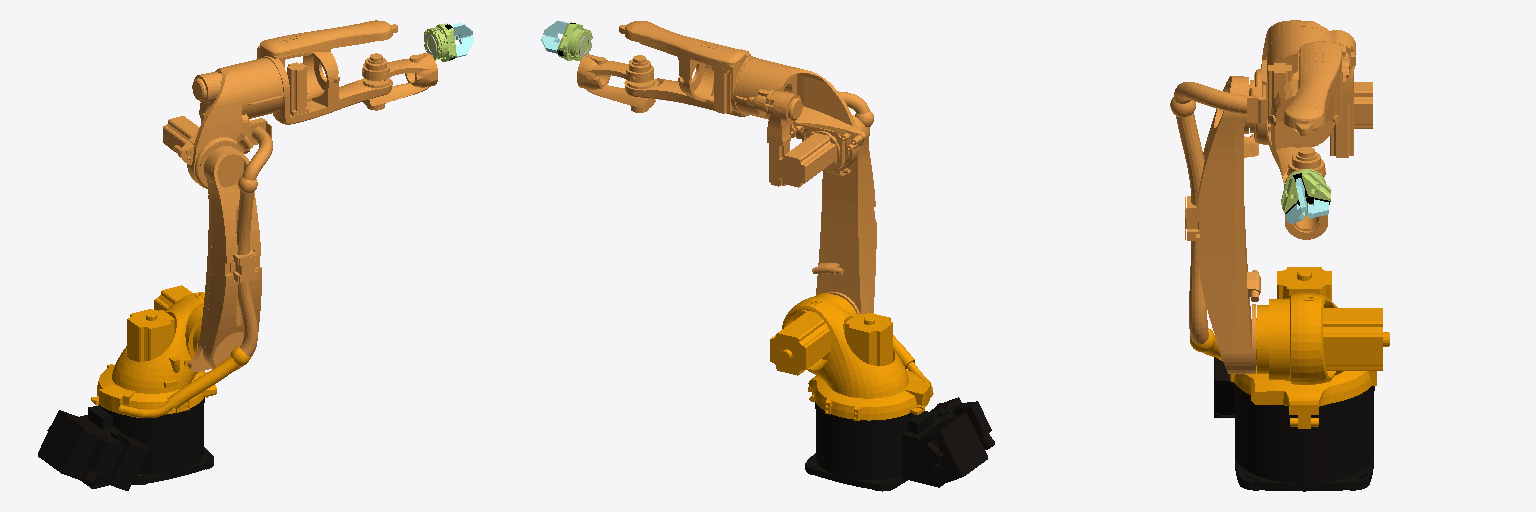
robot.urdf — assembly_kuka_simp:
<?xml version="1.0" encoding="utf-8" ?>
<robot name="assembly_kuka_simp">
    <material name="orange">
        <color rgba="0.933 0.635 0.309 1" />
    </material>
    <material name="black">
        <color rgba="0.121 0.109 0.098 1" />
    </material>
    <material name="platinum">
        <color rgba="0.835 0.815 0.803 1" />
    </material>

    <link name="world" />

    <link name="base_link">        
		<inertial>
            <origin xyz="-0.001558 0.0 0.1124" rpy="0 0 0" />
            <mass value="48.9475" />
            <inertia ixx="0.53585" ixy="0.0" ixz="-0.00395" iyy="0.54899" iyz="-0.00001" izz="0.66970" />
        </inertial>

        <visual>
            <origin xyz="0 0 0" rpy="0 0 0" />
            <geometry>
                <mesh filename="package://kr52_description/meshes/base_link.dae" />
            </geometry>
            <material name="black" />
        </visual>
        <collision>
            <origin xyz="0 0 0" rpy="0 0 0" />
            <geometry>
                <mesh filename="package://assembly_kuka_simp/meshes/base_link.dae" />
            </geometry>
        </collision>
    </link>

    <joint name="world_base" type="fixed">
        <parent link="world" />
        <child link="base_link" />
        <origin rpy="0 0 0" xyz="0 0 0" />
    </joint>

    <link name="link_1">
		<inertial>
            <origin xyz="0.067038 -0.01448 0.09133" rpy="0 0 0" />
            <mass value="28.2722" />
            <inertia ixx="0.2912" ixy="-0.04226" ixz="0.1367" iyy="0.4828" iyz="-0.03051" izz="0.4624" />
        </inertial>

        <visual>
            <origin xyz="0 0 0" rpy="0 0 0" />
            <geometry>
                <mesh filename="package://kr52_description/meshes/link_1.dae" />
            </geometry>
            <material name="">
                <color rgba="0.97 0.64 0.04 1" />
            </material>
        </visual>
        <collision>
            <origin xyz="0 0 0" rpy="0 0 0" />
            <geometry>
                <mesh filename="package://assembly_kuka_simp/meshes/link_1.dae" />
            </geometry>
        </collision>
    </link>

    <joint name="base_to_link1" type="continuous">
        <origin xyz="0 0 0.2255" rpy="0 0 0" />
        <parent link="base_link" />
        <child link="link_1" />
        <axis xyz="0 0 1" />
		<dynamics damping="0.7"/>
        <limit lower="-2.7053" upper="2.7053" effort="10.0" velocity="2.6878" />
    </joint>


    <link name="link_2">        
		<inertial>
            <origin xyz="0.001942 -0.1737 0.26701" rpy="0 0 0" />
            <mass value="20.7503" />
            <inertia ixx="0.70458" ixy="-0.00057" ixz="0.00592" iyy="0.71816" iyz="-0.02276" izz="0.05679" />
        </inertial>

        <visual>
            <origin xyz="0 -0.27055 0" rpy="0 0 0" />
            <geometry>
                <mesh filename="package://assembly_kuka_simp/meshes/link_2_1.dae" />
            </geometry>
            <material name="">
                <color rgba="0.933 0.635 0.309 1" />
            </material>
        </visual>
        <collision>
            <origin xyz="0 -0.27055 0" rpy="0 0 0" />
            <geometry>
                <mesh filename="package://assembly_kuka_simp/meshes/link_2.dae" />
            </geometry>
        </collision>
    </link>

    <joint name="link1_to_link2" type="continuous">
        <origin xyz="0.18106 -0.002 0.178" rpy="0 0 0" />
        <parent link="link_1" />
        <child link="link_2" />
        <axis xyz="0 1 0" />
		<dynamics damping="0.7"/>
        <limit lower="-3.1416" upper="1.1345" effort="10.0" velocity="2.6878" />
    </joint>

    <link name="link_3">        
		<inertial>
            <origin xyz="0.086086 -0.024557 0.10627" rpy="0 0 0" />
            <mass value="16.6002" />
            <inertia ixx="0.18666" ixy="0.04216" ixz="0.08152" iyy="0.23653" iyz="0.04962" izz="0.18575" />
        </inertial>

        <visual>
            <origin xyz="0 -0.13635 0" rpy="0 0 0" />
            <geometry>
                <mesh filename="package://kr52_description/meshes/link_3.dae" />
            </geometry>
            <material name="">
                <color rgba="0.933 0.635 0.309 1" />
            </material>
        </visual>
        <collision>
            <origin xyz="0 -0.13635 0" rpy="0 0 0" />
            <geometry>
                <mesh filename="package://assembly_kuka_simp/meshes/link_3.dae" />
            </geometry>
        </collision>
    </link>

    <joint name="link2_to_link3" type="continuous">
        <origin xyz="0.0011745 0.002 0.59705" rpy="0 0 0" />
        <parent link="link_2" />
        <child link="link_3" />
        <axis xyz="0 1 0" />
		<dynamics damping="0.7"/>
        <limit lower="-0.2618" upper="2.7576" effort="10.0" velocity="3.9794" />
    </joint>

    <link name="link_4">
        <inertial>
            <origin xyz="0.19879 -0.00067831 0.0004912" rpy="0 0 0" />
            <mass value="8.6632" />
            <inertia ixx="0.08299" ixy="-0.00040" ixz="-0.00075" iyy="0.13232" iyz="-0.01710" izz="0.18882" />
        </inertial>

        <visual>
            <origin xyz="0 0 0" rpy="0 0 0" />
            <geometry>
                <mesh filename="package://assembly_kuka_simp/meshes/link_4_1.dae" />
            </geometry>
            <material name="">
                <color rgba="0.933 0.635 0.309 1" />
            </material>
        </visual>
        <collision>
            <origin xyz="0 0 0" rpy="0 0 0" />
            <geometry>
                <mesh filename="package://assembly_kuka_simp/meshes/link_4.dae" />
            </geometry>
        </collision>
    </link>

    <joint name="link3_to_link4" type="continuous">
        <origin xyz="0.237 0 0.17" rpy="0 0 0" />
        <parent link="link_3" />
        <child link="link_4" />
        <axis xyz="1 0 0" />
		<dynamics damping="0.7"/>
        <limit lower="-6.1087" upper="-6.1087" effort="10.0" velocity="5.969" />
    </joint>

    <link name="link_5">
        <inertial>
            <origin xyz="0.075375 -0.0070921 0" rpy="0 0 0" />
            <mass value="2.7234" />
            <inertia ixx="0.00698" ixy="-0.00082" ixz="0.0" iyy="0.01633" iyz="0.0" izz="0.02073" />
        </inertial>

        <visual>
            <origin xyz="0 0 -0.082318" rpy="1.5708 0 0" />
            <geometry>
                <mesh filename="package://assembly_kuka_simp/meshes/link_5.dae" />
            </geometry>
            <material name="">
                <color rgba="0.933 0.635 0.309 1" />
            </material>
        </visual>

        <collision>
            <origin xyz="0 0 -0.082318" rpy="1.5708 0 0" />
            <geometry>
                <mesh filename="package://assembly_kuka_simp/meshes/link_5.dae" />
            </geometry>
        </collision>
    </link>

    <joint name="link4_to_link5" type="continuous">
        <origin xyz="0.383 0.005 0" rpy="0 0 0" />
        <parent link="link_4" />
        <child link="link_5" />
        <axis xyz="0 0 1" />
		<dynamics damping="0.7"/>
        <limit lower="-2.2689" upper="2.2689" effort="10.0" velocity="6.7021" />
    </joint>

    <link name="link_6">
        <inertial>
            <origin xyz="0 0 0" rpy="0 0 0" />
            <mass value="0.05109" />
            <inertia ixx="0.0000431" ixy="0.0" ixz="0.0" iyy="0.0000224" iyz="0.0" izz="0.0000227" />
        </inertial>

        <visual>
            <origin xyz="0 0 0" rpy="0 0 0" />
            <geometry>
                <mesh filename="package://assembly_kuka_simp/meshes/link_6.dae" />
            </geometry>
            <material name="platinum" />
        </visual>
        <collision>
            <origin xyz="0 0 0" rpy="0 0 0" />
            <geometry>
                <mesh filename="package://assembly_kuka_simp/meshes/link_6.dae" />
            </geometry>
        </collision>
    </link>

    <joint name="link5_to_link6" type="continuous">
        <origin xyz="0.193 -0.003 0" rpy="1.3396 0 0" />
        <parent link="link_5" />
        <child link="link_6" />
        <axis xyz="1 0 0" />
		<dynamics damping="0.7"/>
        <limit lower="-6.1087" upper="6.1087" effort="10.0" velocity="12.584" />
    </joint>


    <!-- ******************** GRIPPER *********************-->
    <link name="base_link_grp">
        <inertial>
            <origin xyz="-0.12444 0.015119 0.11802" rpy="0 0 0" />
            <mass value="0.13435" />
            <inertia ixx="0.0000834" ixy="0.0" ixz="0.0" iyy="0.0001620" iyz="0.0" izz="0.0000794" />
        </inertial>

        <visual>
            <origin xyz="0 0 0" rpy="0 0 0" />
            <geometry>
                <mesh filename="package://gripper_schunk_kuka/meshes/base_link_grp.STL" />
            </geometry>
            <material name="">
                <color rgba="0.79 0.9 0.48 1" />
            </material>
        </visual>
        <collision>
            <origin xyz="0 0 0" rpy="0 0 0" />
            <geometry>
                <mesh filename="package://gripper_schunk_kuka/meshes/base_link_grp.STL" />
            </geometry>
        </collision>
    </link>

    <joint name="link6_to_bgrp" type="fixed">
        <origin xyz="0.005 0 0" rpy="0 0 0" />
        <parent link="link_6" />
        <child link="base_link_grp" />
        <axis xyz="1 0 0" />
	<dynamics damping="0.7"/>
        <limit lower="-6.1087" upper="6.1087" effort="0" velocity="12.584" />
    </joint>

    <link name="structure_grp">
        <inertial>
            <origin xyz="-0.00021291 0.023532 3.5559E-05" rpy="0 0 0" />
            <mass value="1.0789" />
            <inertia ixx="0.0009873" ixy="-0.0" ixz="0.0" iyy="0.0015558" iyz="0.0" izz="0.0009789" />
        </inertial>
        <visual>
            <origin xyz="0 0 0" rpy="0 0 0" />
            <geometry>
                <mesh filename="package://gripper_schunk_kuka/meshes/structure_grp.STL" />
            </geometry>
            <material name="">
                <color rgba="0.79 0.9 0.48 1" />
            </material>
        </visual>
        <collision>
            <origin xyz="0 0 0" rpy="0 0 0" />
            <geometry>
                <mesh filename="package://gripper_schunk_kuka/meshes/structure_grp.STL" />
            </geometry>
        </collision>
    </link>

    <joint name="base_to_str_grp" type="fixed">
        <origin xyz="0.0063 0 0" rpy="0 0 0" />
        <parent link="base_link_grp" />
        <child link="structure_grp" />
        <axis xyz="1 0 0" />
		<dynamics damping="0.7"/>
    </joint>

    <link name="guide_1_grp">
        <inertial>
            <origin xyz="0 0.009 0.027502" rpy="0 0 0" />
            <mass value="0.06552" />
            <inertia ixx="0.0000180" ixy="0.0" ixz="0.0" iyy="0.0000185" iyz="0.0" izz="0.0000046" />
        </inertial>

        <visual>
            <origin xyz="0 0 0" rpy="0 0 0" />
            <geometry>
                <mesh filename="package://gripper_schunk_kuka/meshes/guide_1_grp.STL" />
            </geometry>
            <material name="">
                <color rgba="0 0 0 1" />
            </material>
        </visual>
        <collision>
            <origin xyz="0 0 0" rpy="0 0 0" />
            <geometry>
                <mesh filename="package://gripper_schunk_kuka/meshes/guide_1_grp.STL" />
            </geometry>
        </collision>
    </link>

    <joint name="str_to_g1_grp" type="prismatic">
        <origin xyz="0.0321 0 -0.0043" rpy="3.1416 0 0" />
        <parent link="structure_grp" />
        <child link="guide_1_grp" />
        <axis xyz="0 0 1" />
		<dynamics damping="0.7"/>
        <limit lower="0" upper="0.005" effort="0" velocity="0.05" />
    </joint>

    <link name="guide_2_grp">
        <inertial>
            <origin xyz="0 0.00945024176112787 0.0275015665025582" rpy="0 0 0" />
            <mass value="0.06552" />
            <inertia ixx="0.0000180" ixy="0.0" ixz="0.0" iyy="0.0000185" iyz="0.0" izz="0.0000046" />
        </inertial>

        <visual>
            <origin xyz="0 0 0" rpy="0 0 0" />
            <geometry>
                <mesh filename="package://gripper_schunk_kuka/meshes/guide_1_grp.STL" />
            </geometry>
            <material name="">
                <color rgba="0 0 0 1" />
            </material>
        </visual>
        <collision>
            <origin xyz="0 0 0" rpy="0 0 0" />
            <geometry>
                <mesh filename="package://gripper_schunk_kuka/meshes/guide_1_grp.STL" />
            </geometry>
        </collision>
    </link>

    <joint name="str_to_g2_grp" type="prismatic">
        #-0.0037239 0.0321 0.00215
        <origin xyz="0.0321 -3.724E-3 2.15E-3" rpy="1.0472 0 0" />
        <parent link="structure_grp" />
        <child link="guide_2_grp" />
        <axis xyz="0 0 1" />
		<dynamics damping="0.7"/>
        <limit lower="0" upper="0.005" effort="0" velocity="0.05" />
    </joint>

    <link name="guide_3_grp">
        <inertial>
            <origin xyz="0.0087239 0.0094502 0.025291" rpy="0 0 0" />
            <mass value="0.06552" />
            <inertia ixx="0.0000180" ixy="0.0" ixz="0.0" iyy="0.0000185" iyz="0.0" izz="0.0000046" />
        </inertial>

        <visual>
            <origin xyz="0 0 0" rpy="0 0 0" />
            <geometry>
                <mesh filename="package://gripper_schunk_kuka/meshes/guide_1_grp.STL" />
            </geometry>
            <material name="">
                <color rgba="0 0 0 1" />
            </material>
        </visual>
        <collision>
            <origin xyz="0 0 0" rpy="0 0 0" />
            <geometry>
                <mesh filename="package://gripper_schunk_kuka/meshes/guide_1_grp.STL" />
            </geometry>
        </collision>
    </link>

    <joint name="str_to_g3_grp" type="prismatic">
        #-0.0037239 0.0321 0.00215
        <origin xyz="0.0321 3.724E-3 2.15E-3" rpy="5.236 0 0" />
        <parent link="structure_grp" />
        <child link="guide_3_grp" />
        <axis xyz="0 0 1" />
		<dynamics damping="0.7"/>
        <limit lower="0" upper="0.005" effort="0" velocity="0.05" />
    </joint>

    <link name="finger1_grp">
        <inertial>
            <origin xyz="0.0099787 0.037092 0.006" rpy="0 0 0" />
            <mass value="0.091368" />
            <inertia ixx="0.0000410" ixy="-0.0000150" ixz="0.0" iyy="0.000018" iyz="0.0" izz="0.0000576" />
        </inertial>

        <visual>
            <origin xyz="0 0 0" rpy="0 0 0" />
            <geometry>
                <mesh filename="package://gripper_schunk_kuka/meshes/finger1_grp.STL" />
            </geometry>
            <material name="">
                <color rgba="0.75294 1 1 1" />
            </material>
        </visual>
        <collision>
            <origin xyz="0 0 0" rpy="0 0 0" />
            <geometry>
                <mesh filename="package://gripper_schunk_kuka/meshes/finger1_grp.STL" />
            </geometry>
        </collision>
    </link>

    <joint name="g1_to_f1_grp" type="fixed">
        #0.006 0.0209 0.0165
        <origin xyz="0.0209 -0.0053 0.0165" rpy="0 1.5708 0" />
        <parent link="guide_1_grp" />
        <child link="finger1_grp" />
        <axis xyz="0 0 0" />
    </joint>

    <link name="finger2_grp">
        <inertial>
            <origin xyz="0.0099787 0.037092 0.006" rpy="0 0 0" />
            <mass value="0.091368" />
            <inertia ixx="0.0000410" ixy="-0.0000150" ixz="0.0" iyy="0.000018" iyz="0.0" izz="0.0000576" />
        </inertial>

        <visual>
            <origin xyz="0 0 0" rpy="0 0 0" />
            <geometry>
                <mesh filename="package://gripper_schunk_kuka/meshes/finger1_grp.STL" />
            </geometry>
            <material name="">
                <color rgba="0.75294 1 1 1" />
            </material>
        </visual>
        <collision>
            <origin xyz="0 0 0" rpy="0 0 0" />
            <geometry>
                <mesh filename="package://gripper_schunk_kuka/meshes/finger1_grp.STL" />
            </geometry>
        </collision>
    </link>

    <joint name="g2_to_f2_grp" type="fixed">
        <origin xyz="0.0209 -0.0053 0.0165" rpy="0 1.5708 0" />
        <parent link="guide_2_grp" />
        <child link="finger2_grp" />
        <axis xyz="0 0 0" />
    </joint>

    <link name="finger3_grp">
        <inertial>
            <origin xyz="0.0099787 0.037092 0.006" rpy="0 0 0" />
            <mass value="0.091368" />
            <inertia ixx="0.0000410" ixy="-0.0000150" ixz="0.0" iyy="0.000018" iyz="0.0" izz="0.0000576" />
        </inertial>

        <visual>
            <origin xyz="0 0 0" rpy="0 0 0" />
            <geometry>
                <mesh filename="package://gripper_schunk_kuka/meshes/finger1_grp.STL" />
            </geometry>
            <material name="">
                <color rgba="0.75294 1 1 1" />
            </material>
        </visual>
        <collision>
            <origin xyz="0 0 0" rpy="0 0 0" />
            <geometry>
                <mesh filename="package://gripper_schunk_kuka/meshes/finger1_grp.STL" />
            </geometry>
        </collision>
    </link>
    <joint name="g3_to_f3_grp" type="fixed">
        <origin xyz="0.0209 -0.0053 0.0165" rpy="0 1.5708 0" />
        <parent link="guide_3_grp" />
        <child link="finger3_grp" />
        <axis xyz="0 0 0" />
    </joint>

<!-- *********************** TRANSMITIONS ************************* -->

    <transmission name="trans_base_to_link1">
        <type>transmission_interface/SimpleTransmission</type>
        <joint name="base_to_link1">
            <hardwareInterface>hardware_interface/PositionJointInterface</hardwareInterface>
        </joint>
        <actuator name="base_to_link1_motor">
            <hardwareInterface>hardware_interface/PositionJointInterface</hardwareInterface>
            <mechanicalReduction>1</mechanicalReduction>
        </actuator>
    </transmission>
    <transmission name="trans_link1_to_link2">
        <type>transmission_interface/SimpleTransmission</type>
        <joint name="link1_to_link2">
            <hardwareInterface>hardware_interface/PositionJointInterface</hardwareInterface>
        </joint>
        <actuator name="link1_to_link2_motor">
            <hardwareInterface>hardware_interface/PositionJointInterface</hardwareInterface>
            <mechanicalReduction>1</mechanicalReduction>
        </actuator>
    </transmission>
    <transmission name="trans_link2_to_link3">
        <type>transmission_interface/SimpleTransmission</type>
        <joint name="link2_to_link3">
            <hardwareInterface>hardware_interface/PositionJointInterface</hardwareInterface>
        </joint>
        <actuator name="link2_to_link3_motor">
            <hardwareInterface>hardware_interface/PositionJointInterface</hardwareInterface>
            <mechanicalReduction>1</mechanicalReduction>
        </actuator>
    </transmission>
    <transmission name="trans_link3_to_link4">
        <type>transmission_interface/SimpleTransmission</type>
        <joint name="link3_to_link4">
            <hardwareInterface>hardware_interface/PositionJointInterface</hardwareInterface>
        </joint>
        <actuator name="link3_to_link4_motor">
            <hardwareInterface>hardware_interface/PositionJointInterface</hardwareInterface>
            <mechanicalReduction>1</mechanicalReduction>
        </actuator>
    </transmission>
    <transmission name="trans_link4_to_link5">
        <type>transmission_interface/SimpleTransmission</type>
        <joint name="link4_to_link5">
            <hardwareInterface>hardware_interface/PositionJointInterface</hardwareInterface>
        </joint>
        <actuator name="link4_to_link5_motor">
            <hardwareInterface>hardware_interface/PositionJointInterface</hardwareInterface>
            <mechanicalReduction>1</mechanicalReduction>
        </actuator>
    </transmission>
    <transmission name="trans_link5_to_link6">
        <type>transmission_interface/SimpleTransmission</type>
        <joint name="link5_to_link6">
            <hardwareInterface>hardware_interface/PositionJointInterface</hardwareInterface>
        </joint>
        <actuator name="link5_to_link6_motor">
            <hardwareInterface>hardware_interface/PositionJointInterface</hardwareInterface>
            <mechanicalReduction>1</mechanicalReduction>
        </actuator>
    </transmission>
    <transmission name="trans_str_to_g1_grp">
        <type>transmission_interface/SimpleTransmission</type>
        <joint name="str_to_g1_grp">
            <hardwareInterface>hardware_interface/EffortJointInterface</hardwareInterface>
        </joint>
        <actuator name="str_to_g1_grp_motor">
            <hardwareInterface>hardware_interface/EffortJointInterface</hardwareInterface>
            <mechanicalReduction>1</mechanicalReduction>
        </actuator>
    </transmission>
    <transmission name="trans_str_to_g2_grp">
        <type>transmission_interface/SimpleTransmission</type>
        <joint name="str_to_g2_grp">
            <hardwareInterface>hardware_interface/EffortJointInterface</hardwareInterface>
        </joint>
        <actuator name="str_to_g2_grp_motor">
            <hardwareInterface>hardware_interface/EffortJointInterface</hardwareInterface>
            <mechanicalReduction>1</mechanicalReduction>
        </actuator>
    </transmission>
    <transmission name="trans_str_to_g3_grp">
        <type>transmission_interface/SimpleTransmission</type>
        <joint name="str_to_g3_grp">
            <hardwareInterface>hardware_interface/EffortJointInterface</hardwareInterface>
        </joint>
        <actuator name="str_to_g3_grp_motor">
            <hardwareInterface>hardware_interface/EffortJointInterface</hardwareInterface>
            <mechanicalReduction>1</mechanicalReduction>
        </actuator>
    </transmission>

    <!-- ***************** Gazebo plugin for ROS Control ********************** -->
    <gazebo>
        <plugin name="gazebo_ros_control" filename="libgazebo_ros_control.so">
            <robotNamespace>/</robotNamespace>
        </plugin>
    </gazebo>
</robot>

--- Facts derived from the render (not from the file) ---
3 views of the same robot in one strip: view 1: azimuth 30°, elevation 25°; view 2: azimuth 150°, elevation 25°; view 3: azimuth 270°, elevation 25° (orthographic).
Model assembly_kuka_simp with 16 links and 15 joints (6 continuous, 3 prismatic, 6 fixed), rooted at world, posed all joints at 0.
Links seen in each view (by area): view 1: link_2, base_link, link_1, link_3, link_4, link_5, structure_grp; view 2: link_1, base_link, link_2, link_3, link_4, link_5, structure_grp; view 3: link_2, link_1, base_link, link_4, link_3, link_5, structure_grp.
Boxes of the visible links, <box> form: link_2: <box>163,116,261,371</box>; base_link: <box>38,397,213,490</box>; link_1: <box>91,285,249,417</box>; link_3: <box>173,58,282,188</box>; link_4: <box>257,20,397,124</box>; link_5: <box>362,53,437,110</box>; structure_grp: <box>431,23,456,61</box>; link_1: <box>770,293,933,420</box>; base_link: <box>805,397,994,491</box>; link_2: <box>778,111,876,313</box>; link_3: <box>736,58,869,186</box>; link_4: <box>619,21,755,116</box>; link_5: <box>577,54,655,112</box>; structure_grp: <box>557,22,585,60</box>; link_2: <box>1170,76,1372,374</box>; link_1: <box>1190,267,1389,428</box>; base_link: <box>1214,357,1374,491</box>; link_4: <box>1266,41,1342,183</box>; link_3: <box>1174,20,1355,157</box>; link_5: <box>1285,147,1327,239</box>; structure_grp: <box>1281,170,1330,215</box>.
Bounding box of the posed robot: 1.51 × 0.5105 × 1.29 m (x, y, z).
Meshes: 11 distinct files referenced, 15 mesh visuals loaded (4 binary STL, 7 Collada DAE).